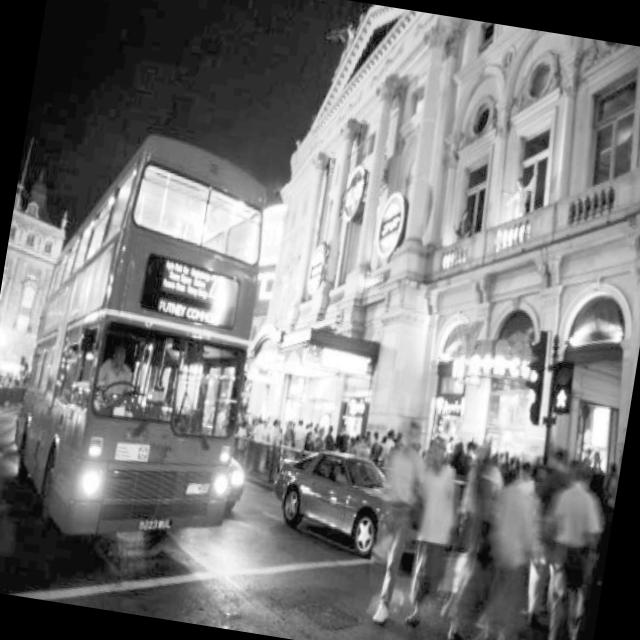Bus: (0, 131, 300, 567)
Car: (258, 425, 420, 584)
